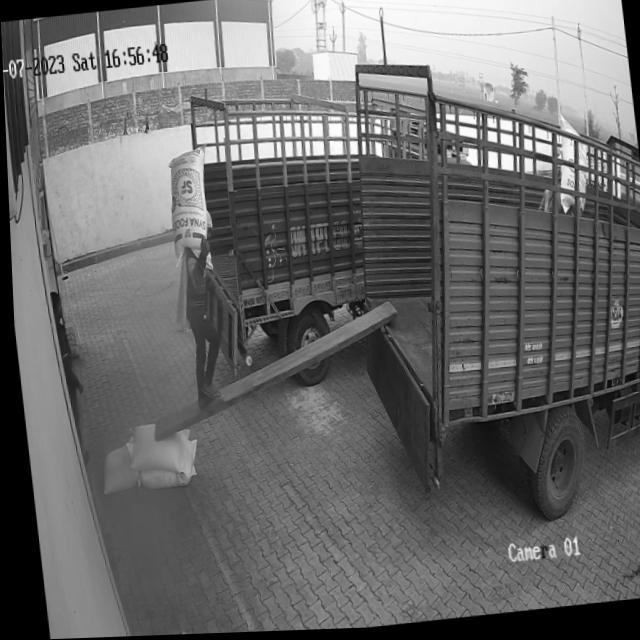sack: (160, 145, 215, 268), (120, 420, 190, 478), (129, 440, 197, 491), (92, 442, 134, 497)
